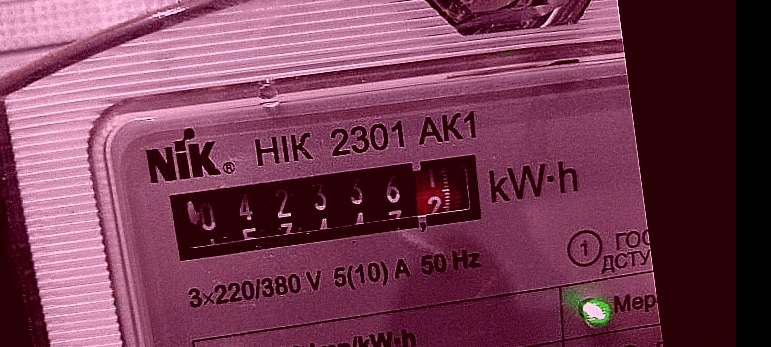0: (194, 198, 217, 233)
1: (422, 163, 437, 190)
2: (269, 184, 294, 220), (423, 193, 442, 216)
3: (306, 178, 328, 212), (344, 173, 365, 207)
4: (233, 189, 254, 223)
6: (379, 170, 404, 206)
screen: (154, 139, 498, 273)
